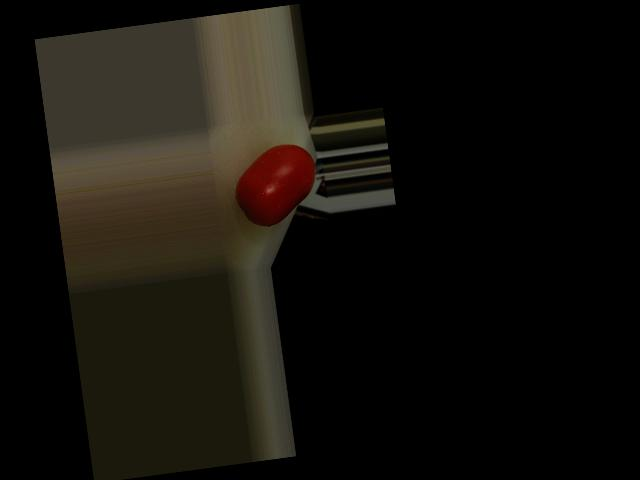tomato: (230, 140, 322, 229)
